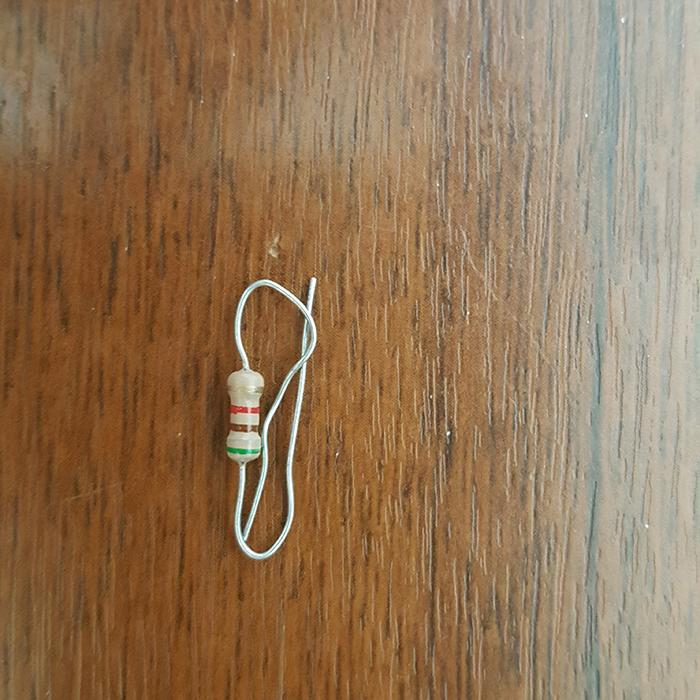resistor: (224, 371, 264, 463)
